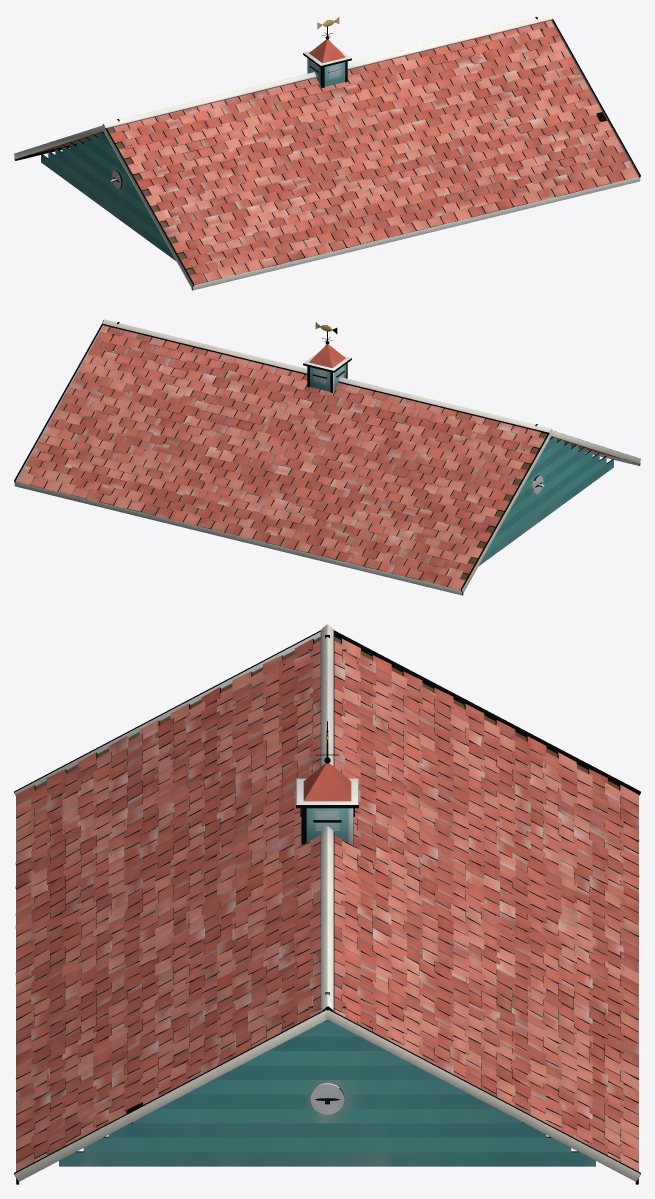
Rendered from museum_roof_2.glb.
3 renders of one model, top to bottom at view 1: azimuth 30°, elevation 25°; view 2: azimuth 150°, elevation 25°; view 3: azimuth 270°, elevation 25°, orthographic. The views are drawn at different scales.
Visible parts, largest first — view 1: SM_Roof_Shingles, SM_Roof_Fascia, SM_Roof_Gables, SM_Roof_Deck, SM_Roof_Cupola; view 2: SM_Roof_Shingles, SM_Roof_Fascia, SM_Roof_Gables, SM_Roof_Deck, SM_Roof_Cupola; view 3: SM_Roof_Shingles, SM_Roof_Gables, SM_Roof_Fascia, SM_Roof_Cupola, SM_Roof_Deck.
Part boxes in pixels (x1,y1,x2,y2): SM_Roof_Shingles: [110, 20, 638, 284]; SM_Roof_Fascia: [14, 14, 640, 290]; SM_Roof_Gables: [41, 17, 549, 261]; SM_Roof_Deck: [32, 23, 625, 280]; SM_Roof_Cupola: [303, 17, 351, 87]; SM_Roof_Shingles: [16, 325, 544, 589]; SM_Roof_Fascia: [14, 319, 640, 595]; SM_Roof_Gables: [105, 322, 613, 566]; SM_Roof_Deck: [28, 330, 622, 585]; SM_Roof_Cupola: [303, 322, 351, 392]; SM_Roof_Shingles: [15, 638, 639, 1171]; SM_Roof_Gables: [59, 635, 595, 1166]; SM_Roof_Fascia: [14, 624, 640, 1184]; SM_Roof_Cupola: [296, 721, 358, 844]; SM_Roof_Deck: [35, 637, 619, 789].
Size of the model in its own units: 19.34 by 6.22 by 13.38.
2 materials, 1 textured.
